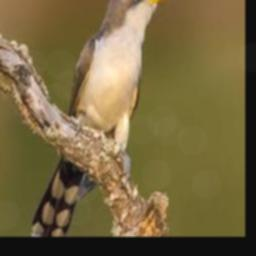Cuckoo: (29, 0, 175, 236)
